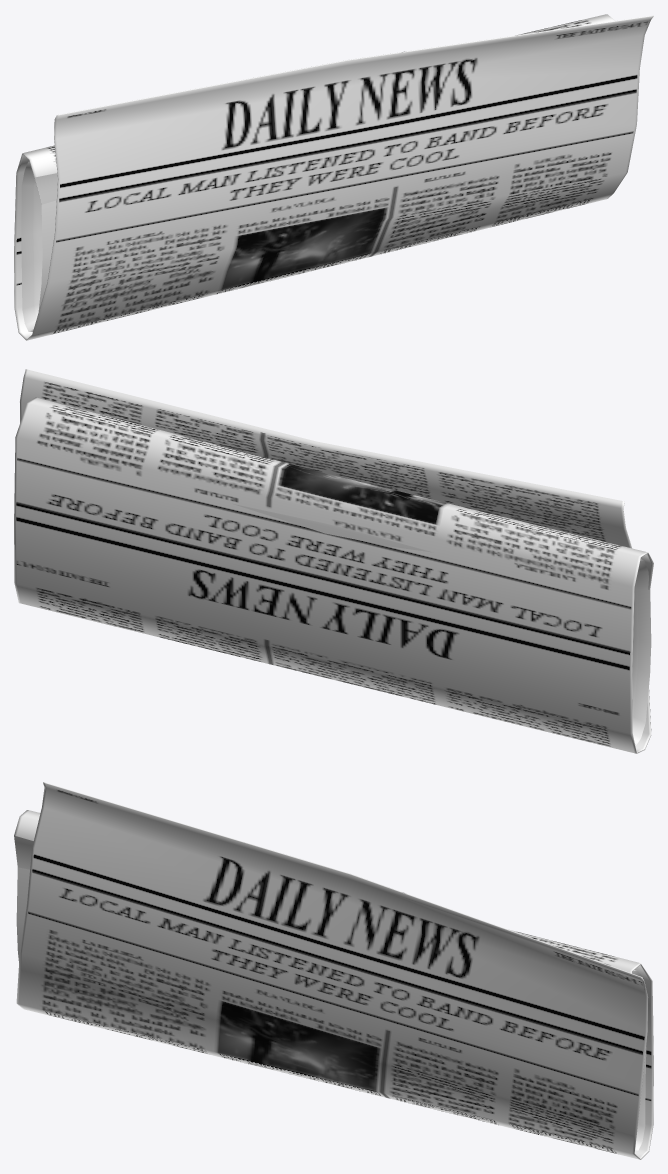
The model's file is MeshCylinder_042_0.obj.
The picture shows the model from 3 angles, top to bottom: view 1: azimuth 30°, elevation 25°; view 2: azimuth 150°, elevation 25°; view 3: azimuth 330°, elevation 25°; orthographic projection. The views are drawn at different scales.
Visible parts, largest first — view 1: Cylinder_042; view 2: Cylinder_042; view 3: Cylinder_042.
Part boxes in pixels (<box>): Cylinder_042: <box>14,14,653,340</box>; Cylinder_042: <box>14,369,653,753</box>; Cylinder_042: <box>14,782,653,1159</box>.
Size of the model in its own units: 0.3526 by 0.1246 by 0.0354.
